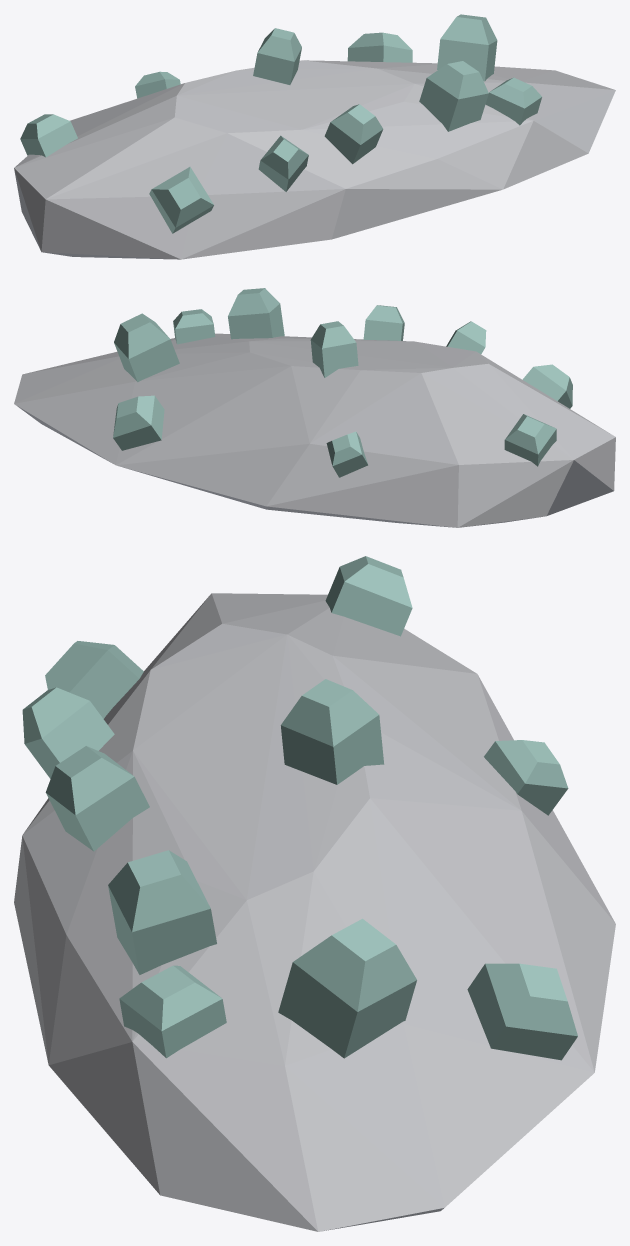
The model's file is SM_MR_Crystal_Small_05.fbx.
3 views of the same model, one above another, from view 1: azimuth 30°, elevation 25°; view 2: azimuth 150°, elevation 25°; view 3: azimuth 270°, elevation 25° (orthographic). The views are drawn at different scales.
Visible parts, largest first — view 1: SM_MR_Crystal_Small_05; view 2: SM_MR_Crystal_Small_05; view 3: SM_MR_Crystal_Small_05.
Part boxes in pixels (x1,y1,x2,y2): SM_MR_Crystal_Small_05: (14, 14, 615, 259); SM_MR_Crystal_Small_05: (14, 288, 615, 527); SM_MR_Crystal_Small_05: (14, 556, 615, 1231).
Bounding box in the file's own units: 0.35 × 0.1669 × 0.0851.
